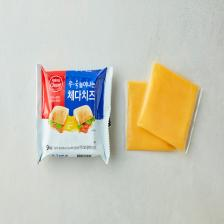cheese: (137, 60, 200, 152), (126, 80, 176, 152)
